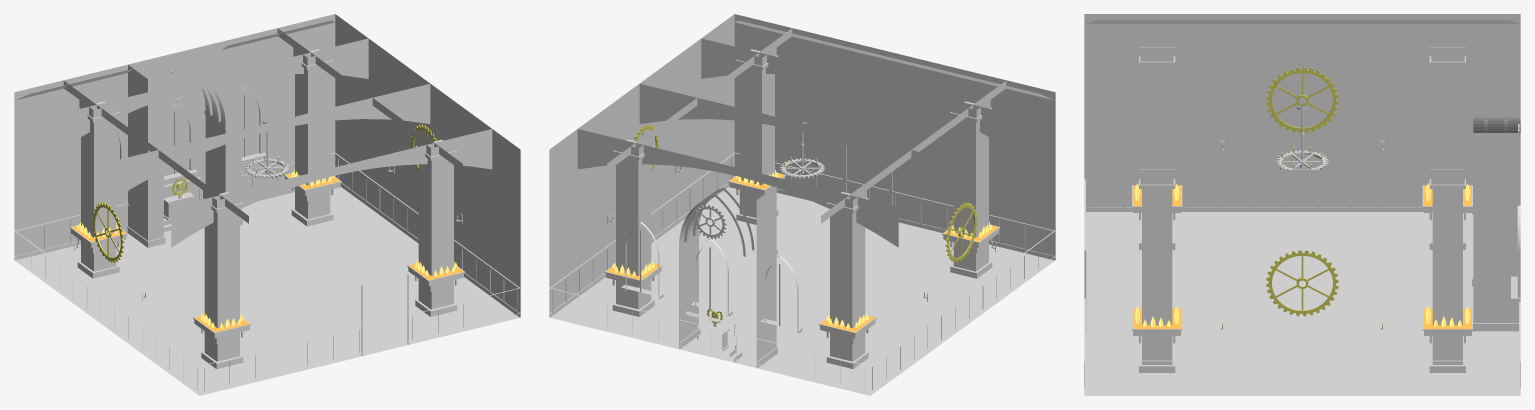
Rendered from guardian-vault.glb.
3 renders of one model, left to right at view 1: azimuth 30°, elevation 25°; view 2: azimuth 150°, elevation 25°; view 3: azimuth 270°, elevation 25°, orthographic. The views are drawn at different scales.
Visible parts, largest first — view 1: guardian-vault; view 2: guardian-vault, door-plug-s; view 3: guardian-vault.
Boxes of the visible parts, <box> form: guardian-vault: <box>14,14,520,395</box>; guardian-vault: <box>549,14,1055,395</box>; door-plug-s: <box>846,145,888,204</box>; guardian-vault: <box>1084,14,1520,395</box>.
Size of the model in its own units: 12 by 6 by 12.
